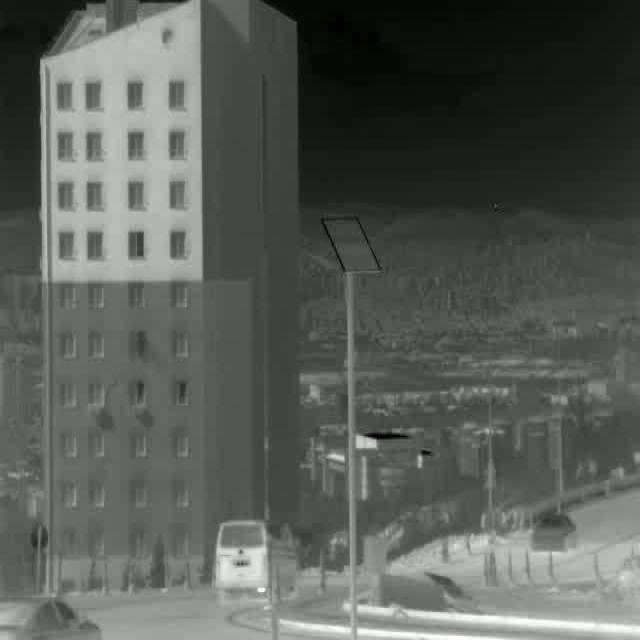Car: (210, 522, 298, 602), (0, 593, 102, 640), (530, 512, 576, 555)
